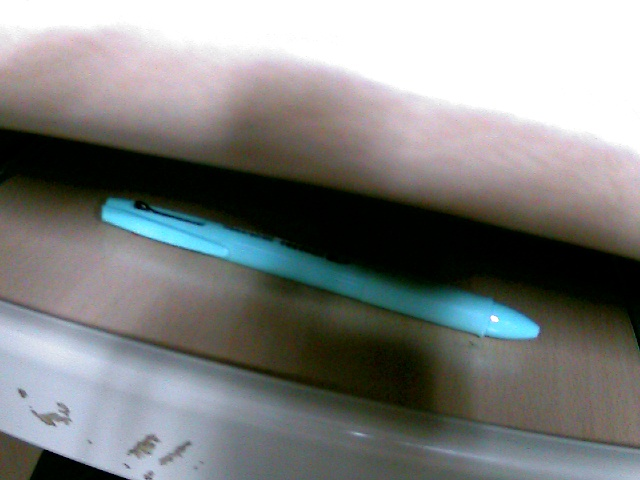pen: (107, 188, 512, 327)
